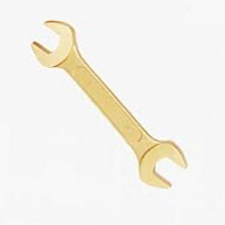Wrench: (17, 13, 197, 192)
